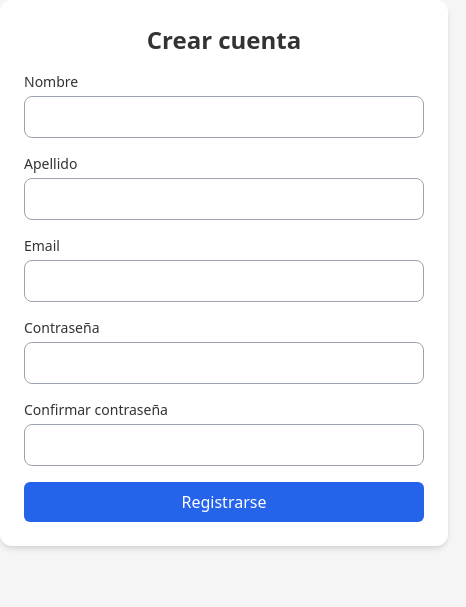
Test: RegisterForm › registra un usuario exitosamente, muestra mensaje y redirige
This screenshot has width=466, height=607.
Type "Jane" into the field labelled "Nombre" at (224, 117), box [24,96,424,138]
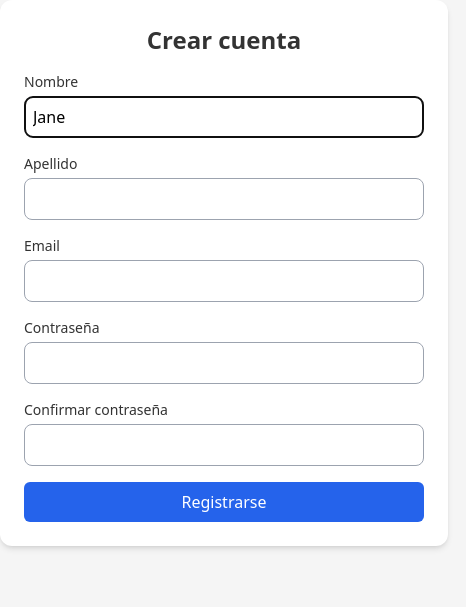
Type "Doe" into the field labelled "Apellido" at (224, 199), box [24,178,424,220]
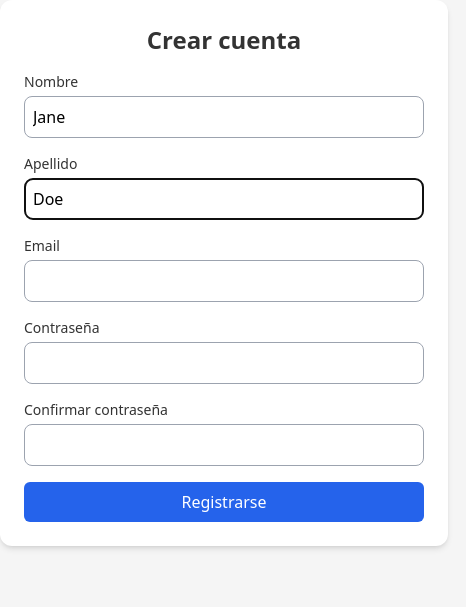
Type "jane.doe@test.com" into the field labelled "Email" at (224, 281), box [24,260,424,302]
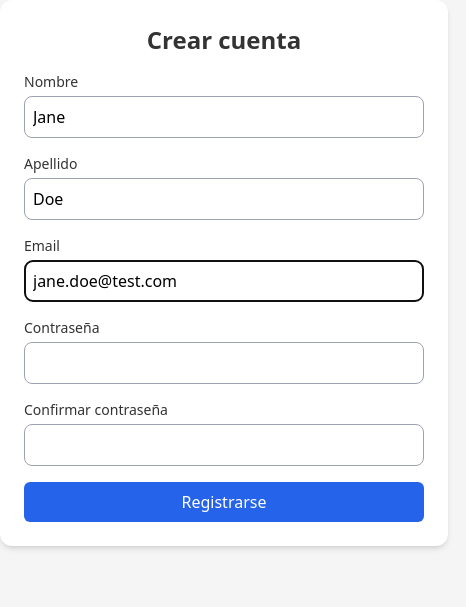
Type "password123" into the password field labelled "Contraseña" at (224, 363), box [24,342,424,384]
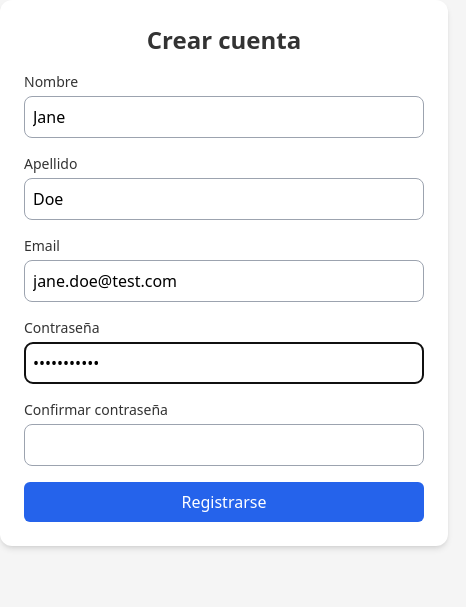
Type "password123" into the password field labelled "Confirmar contraseña" at (224, 445), box [24,424,424,466]
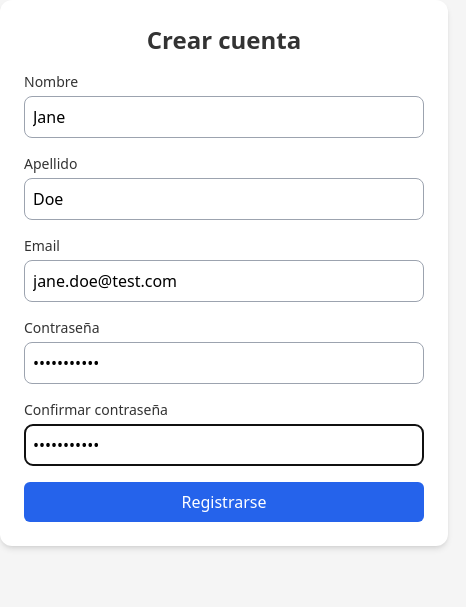
Click the button "Registrarse" at (224, 502), box [24,482,424,522]
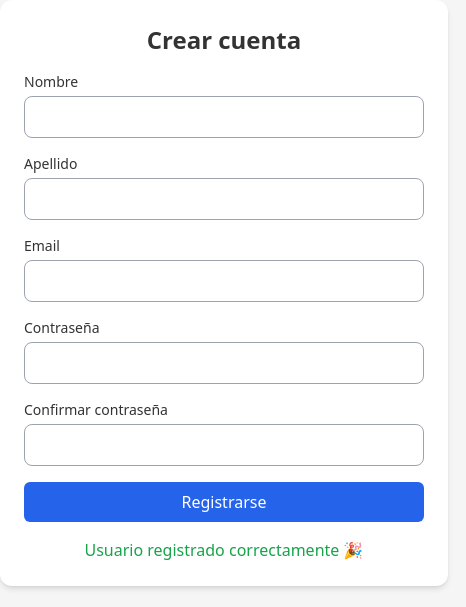
Now the text "Usuario registrado correctamente 🎉" is shown, box [84,539,364,561]
Now the field labelled "Nombre" is empty, box [24,96,424,138]
